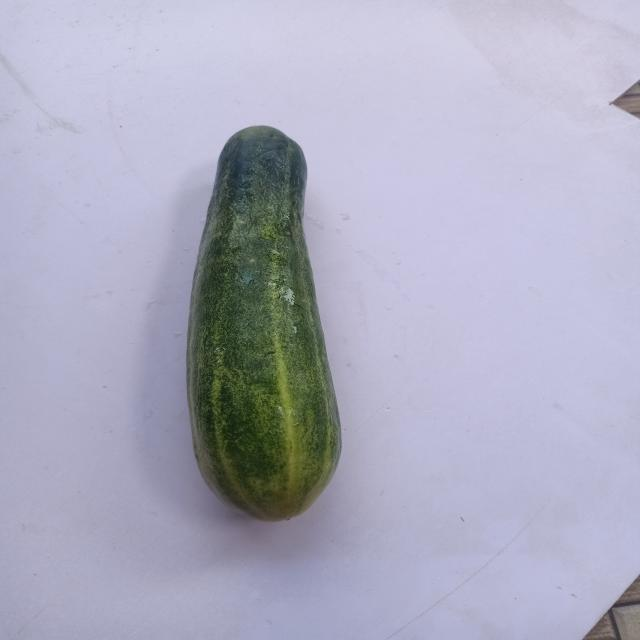Cucumber: (168, 114, 363, 542)
